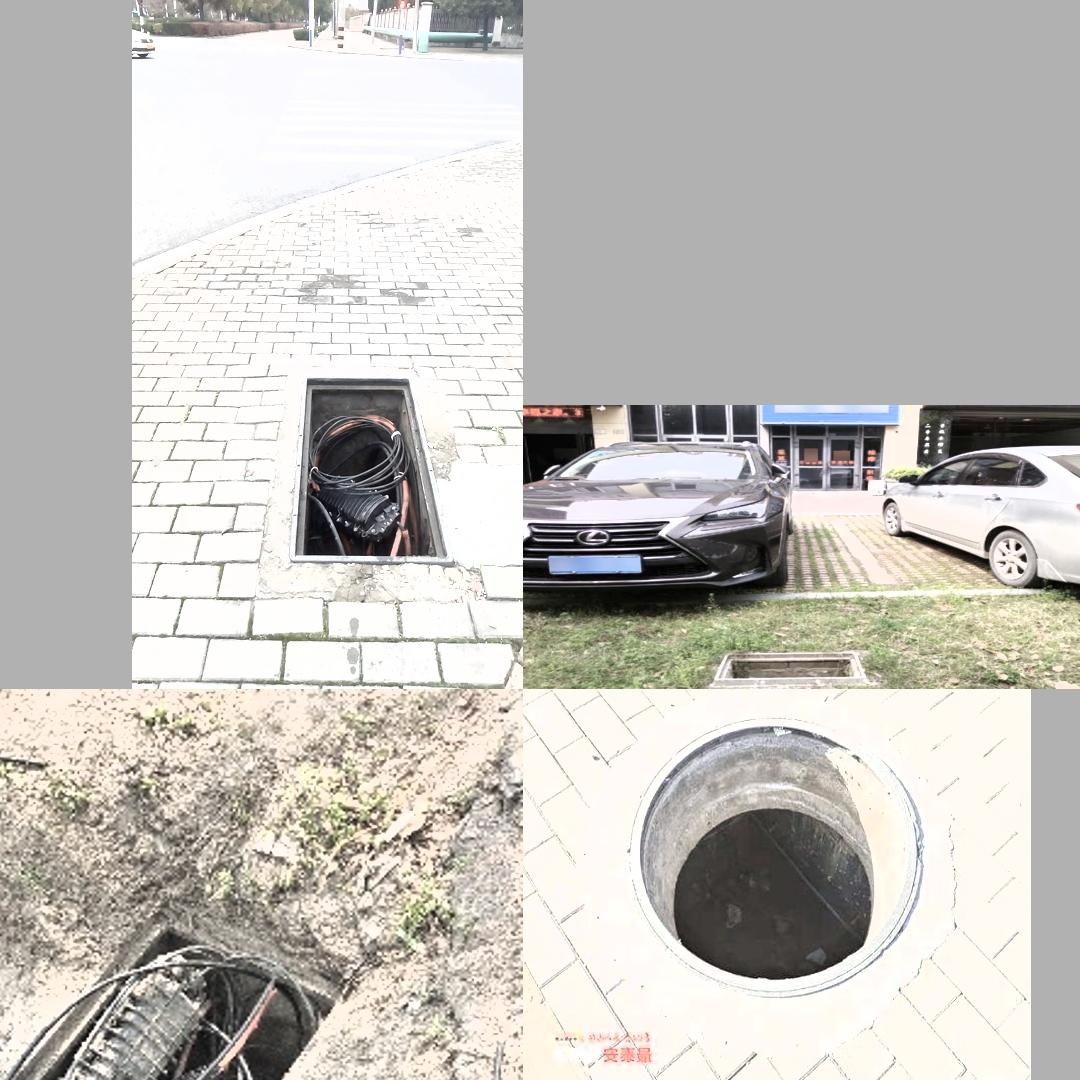lose: (579, 698, 946, 1030), (0, 912, 359, 1080), (247, 360, 465, 610), (714, 646, 868, 683)
